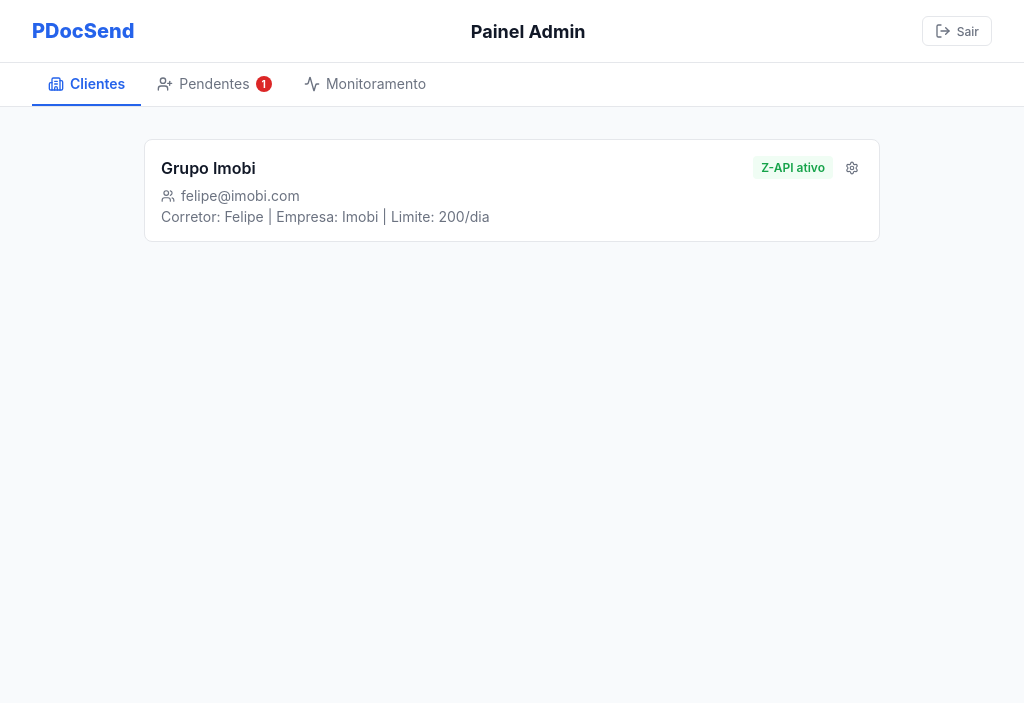
Admin › deve abrir modal de editar ao clicar em cliente
Click the heading "Grupo Imobi": (208, 168) [161,158,256,178]
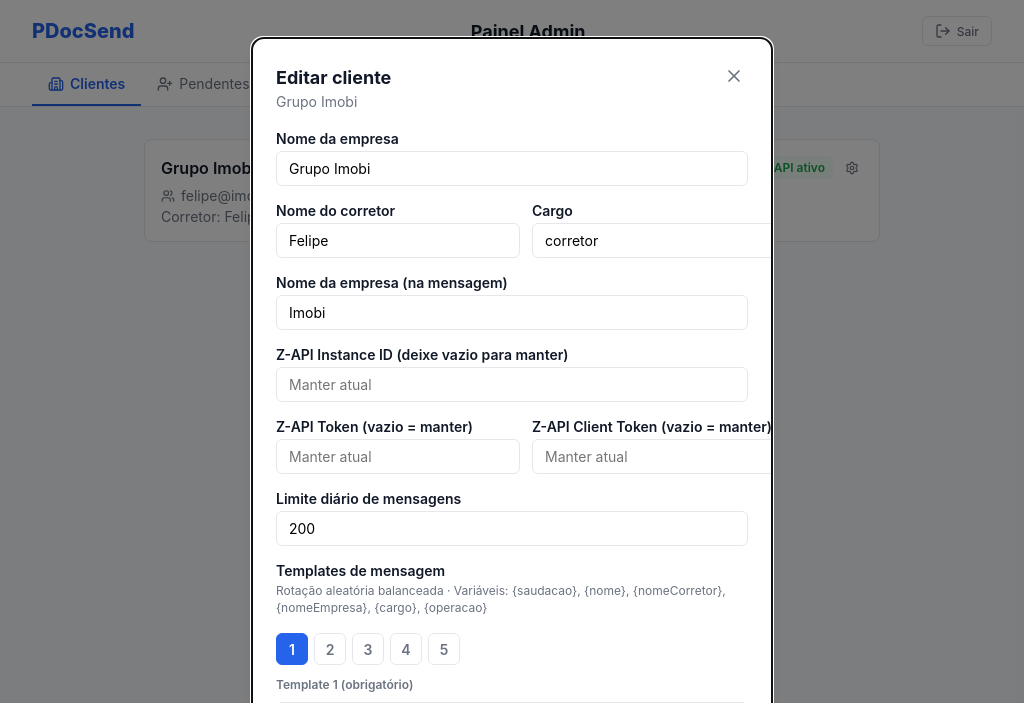
Check: the heading "Editar cliente" is shown, box [276,67,391,88]
